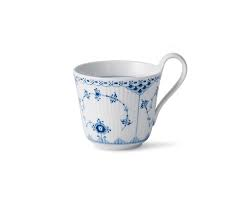cup: (69, 51, 190, 154)
